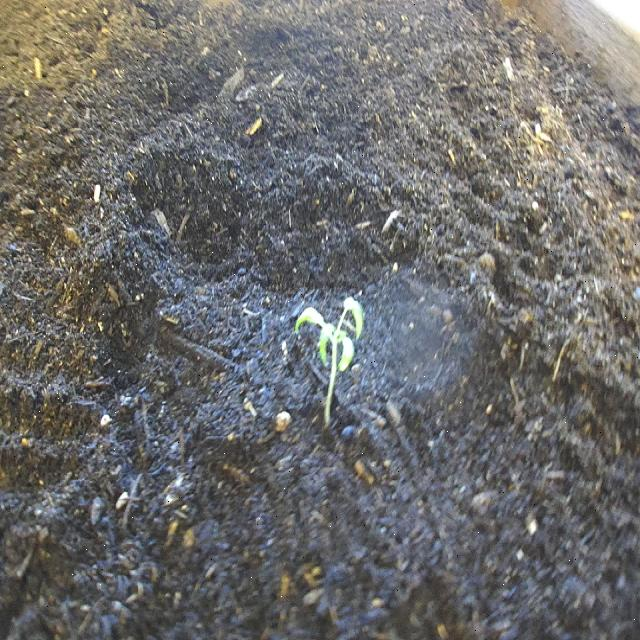Healthy: (292, 291, 368, 431)
